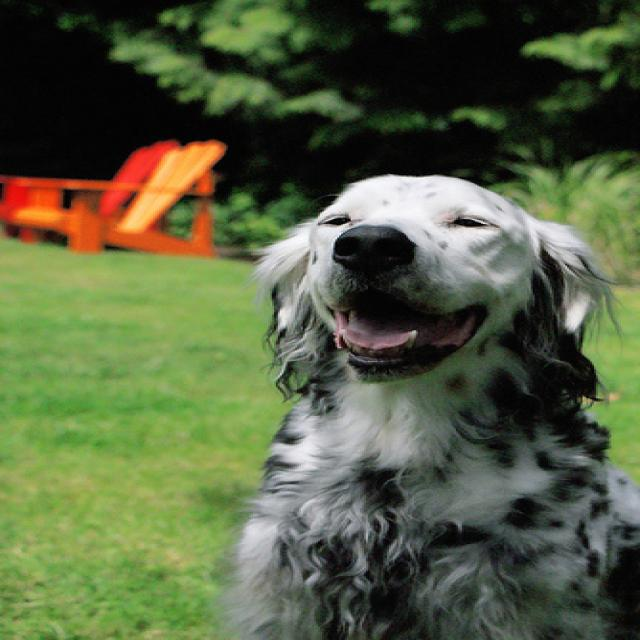dog-english_setter: (209, 163, 636, 637)
